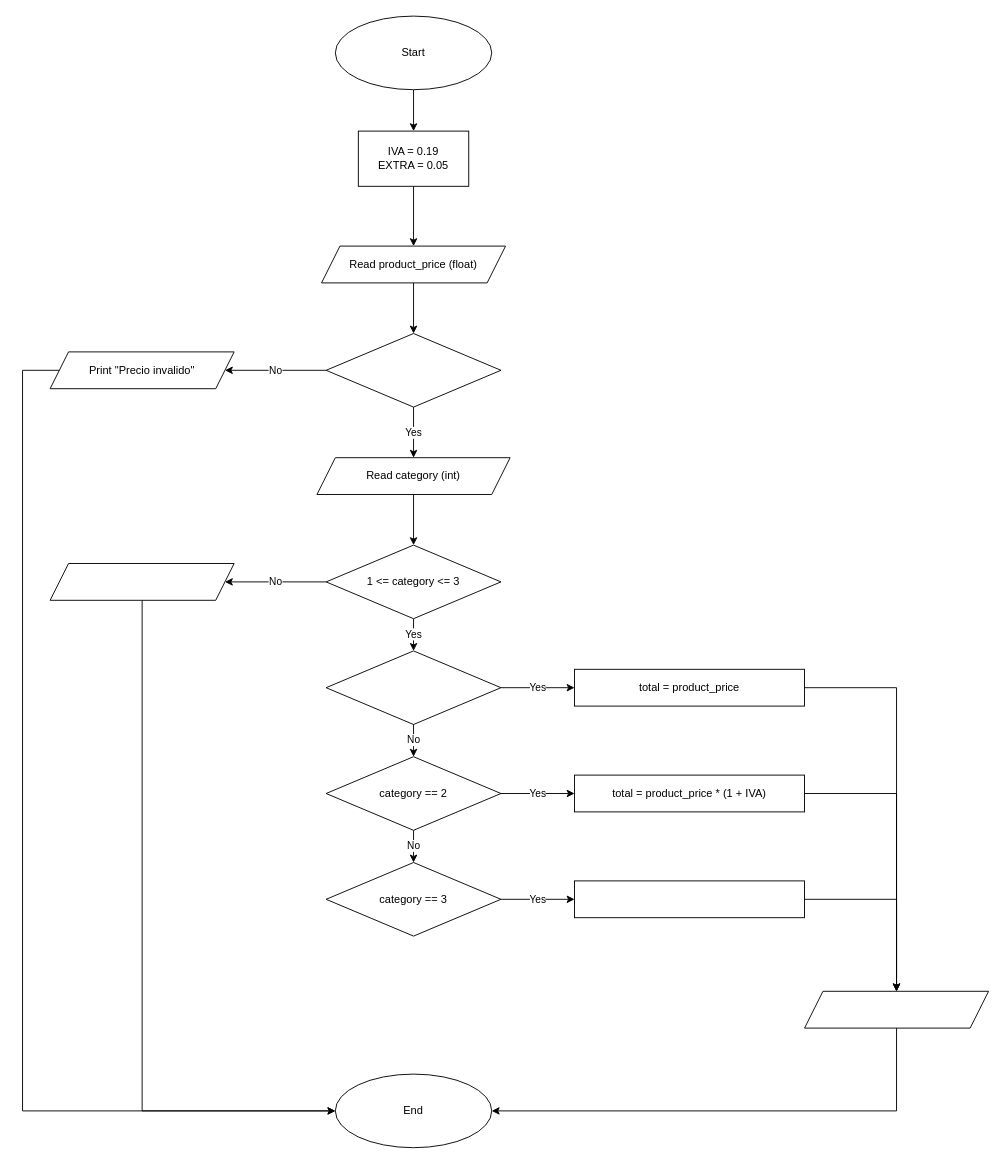
This 1005x1164 diagram has some shape labels left out. Each missing label, with the centre of its shape:
category == 1: pixel 413 687
Print "Categoria invalida": pixel 141 581
Print total: pixel 896 1009
product_price > 0: pixel 413 370
total = product_price * (1 + IVA + EXTRA): pixel 689 899
